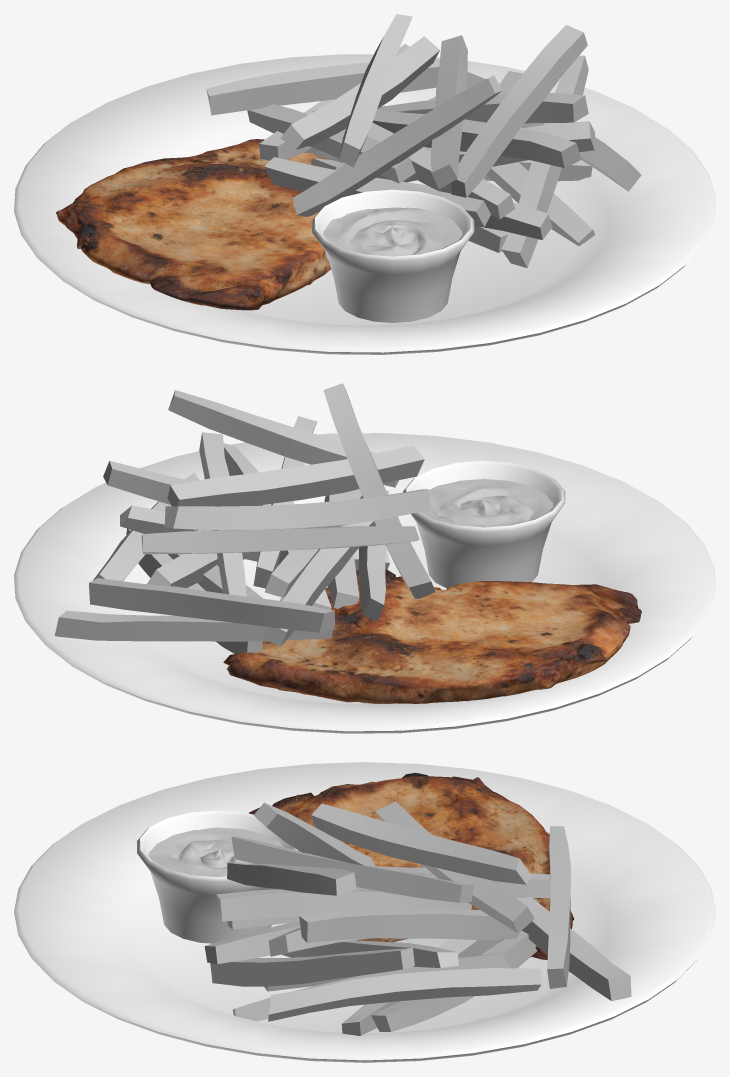
The model's file is SteakFries_Test.fbx.
3 renders of one model, top to bottom at view 1: azimuth 30°, elevation 25°; view 2: azimuth 150°, elevation 25°; view 3: azimuth 270°, elevation 25°, orthographic.
Visible parts, largest first — view 1: SteakFries; view 2: SteakFries; view 3: SteakFries.
Boxes of the visible parts, x1,y1,x2,y2 form: SteakFries: (14,14,715,354); SteakFries: (14,383,715,733); SteakFries: (14,762,715,1062).
Bounding box in the file's own units: 27.95 × 8.72 × 27.95.
